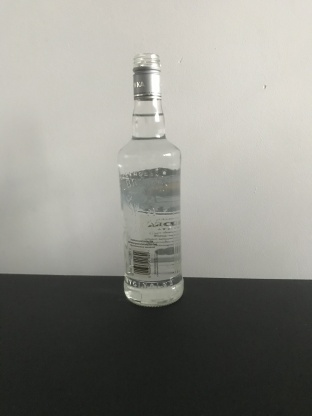nakretka: (130, 52, 163, 101)
